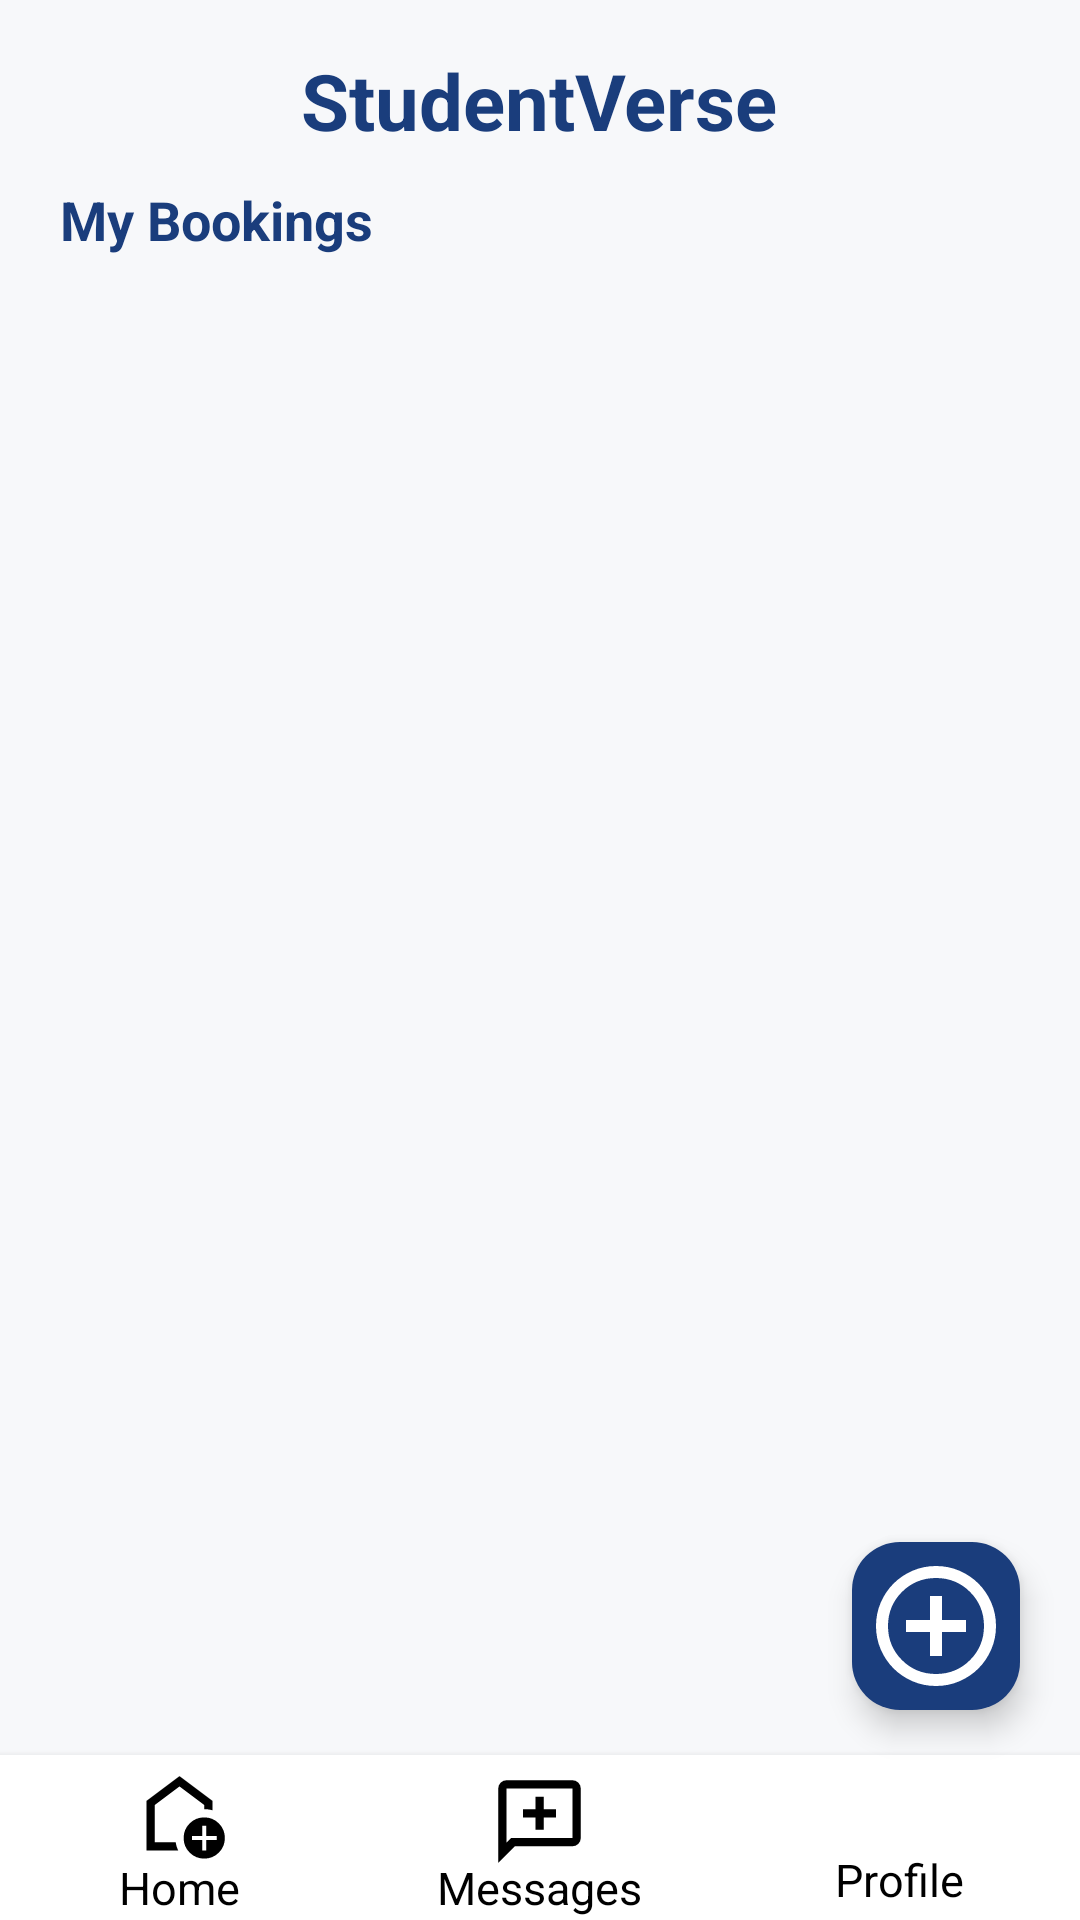

Where to tap for icons on this 1080px×1920px app screen, as (x,y):
add circle: (936,1626)
add comment: (539,1821)
